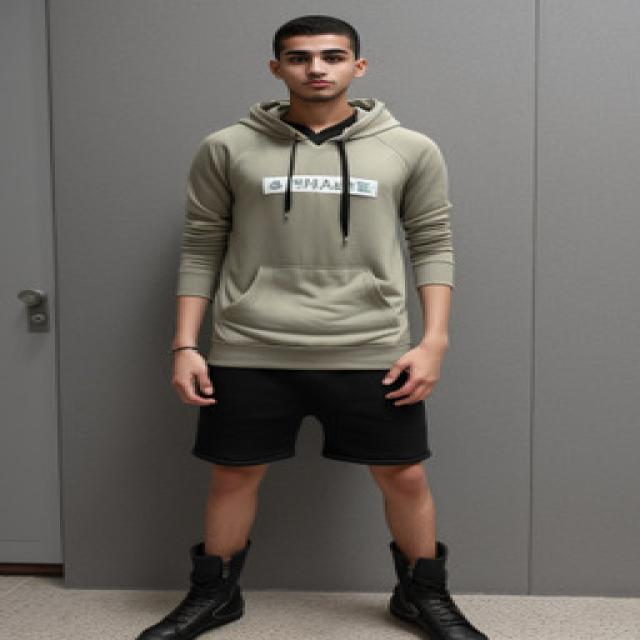Ai human 2: (153, 8, 542, 640)
